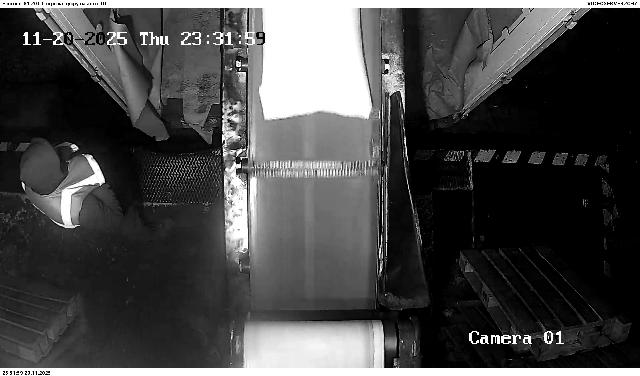bag: (259, 8, 373, 120)
